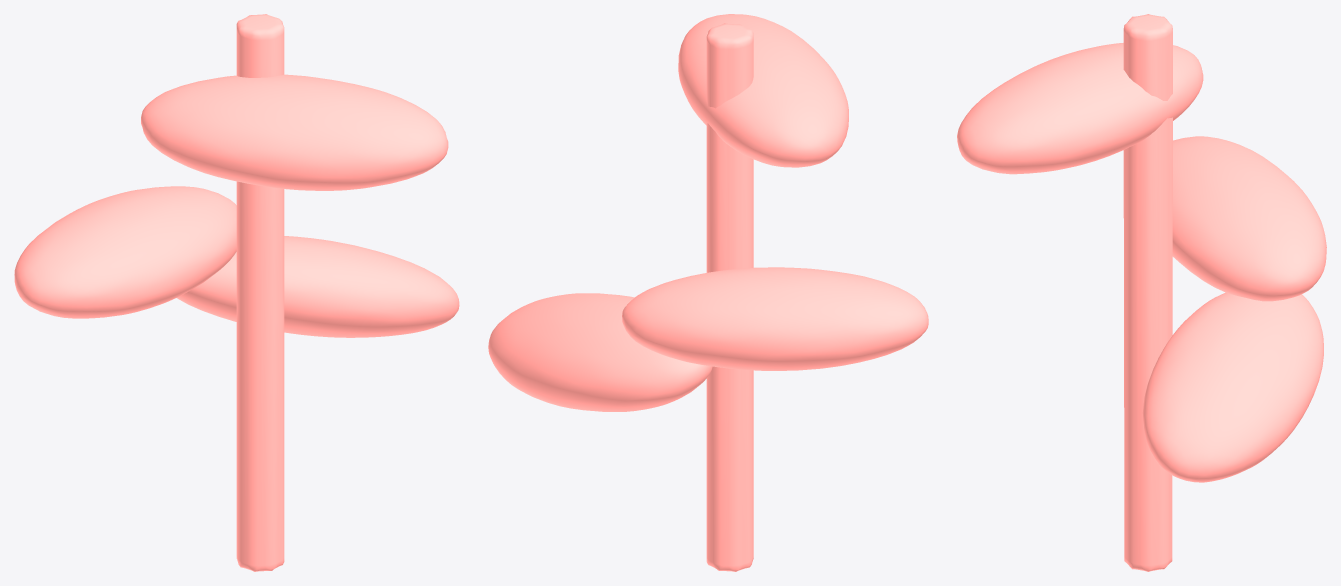
File: material_herb_red_v3.glb
The picture shows the model from 3 angles, left to right: view 1: azimuth 30°, elevation 25°; view 2: azimuth 150°, elevation 25°; view 3: azimuth 270°, elevation 25°; orthographic projection.
Visible parts, largest first — view 1: item_herb_red_leaf2, item_herb_red_leaf1, item_herb_red_stem, item_herb_red_leaf0; view 2: item_herb_red_leaf1, item_herb_red_stem, item_herb_red_leaf0, item_herb_red_leaf2; view 3: item_herb_red_leaf0, item_herb_red_stem, item_herb_red_leaf2, item_herb_red_leaf1.
Part boxes in pixels (x1=…): item_herb_red_leaf2: x1=141, y1=74, x2=448, y2=190; item_herb_red_leaf1: x1=14, y1=186, x2=236, y2=318; item_herb_red_stem: x1=236, y1=14, x2=284, y2=571; item_herb_red_leaf0: x1=177, y1=236, x2=459, y2=337; item_herb_red_leaf1: x1=622, y1=267, x2=928, y2=370; item_herb_red_stem: x1=706, y1=23, x2=753, y2=571; item_herb_red_leaf0: x1=488, y1=293, x2=712, y2=411; item_herb_red_leaf2: x1=678, y1=14, x2=848, y2=167; item_herb_red_leaf0: x1=1142, y1=292, x2=1323, y2=482; item_herb_red_stem: x1=1123, y1=14, x2=1172, y2=571; item_herb_red_leaf2: x1=957, y1=43, x2=1203, y2=174; item_herb_red_leaf1: x1=1172, y1=136, x2=1326, y2=301.
Size of the model in its own units: 0.2931 by 0.35 by 0.2172.
